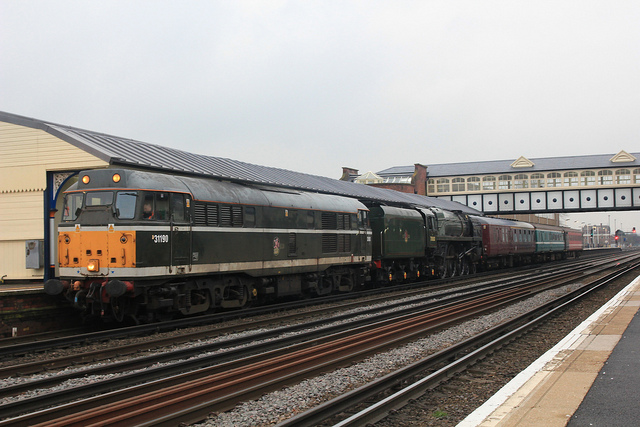Train: (48, 163, 560, 284)
